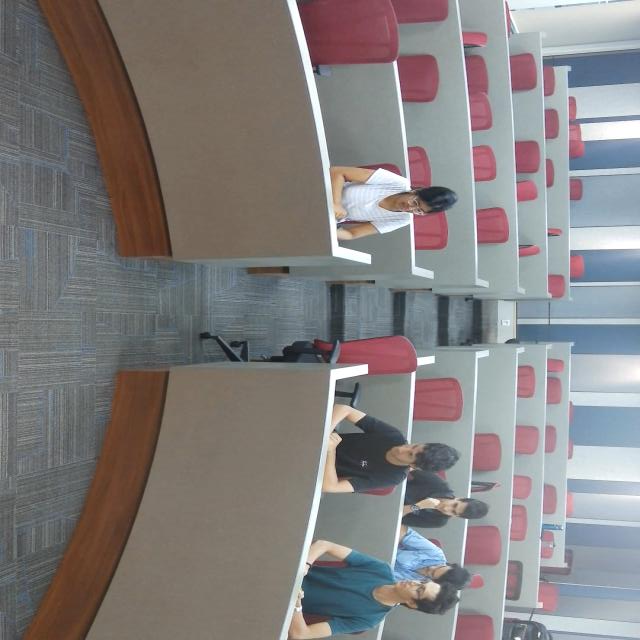cheating: (421, 177, 475, 319), (542, 153, 584, 247)
